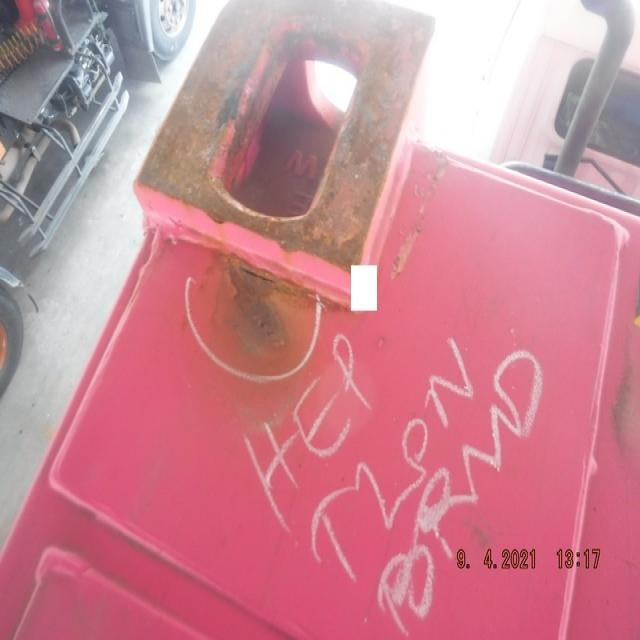rust: (182, 250, 323, 360)
